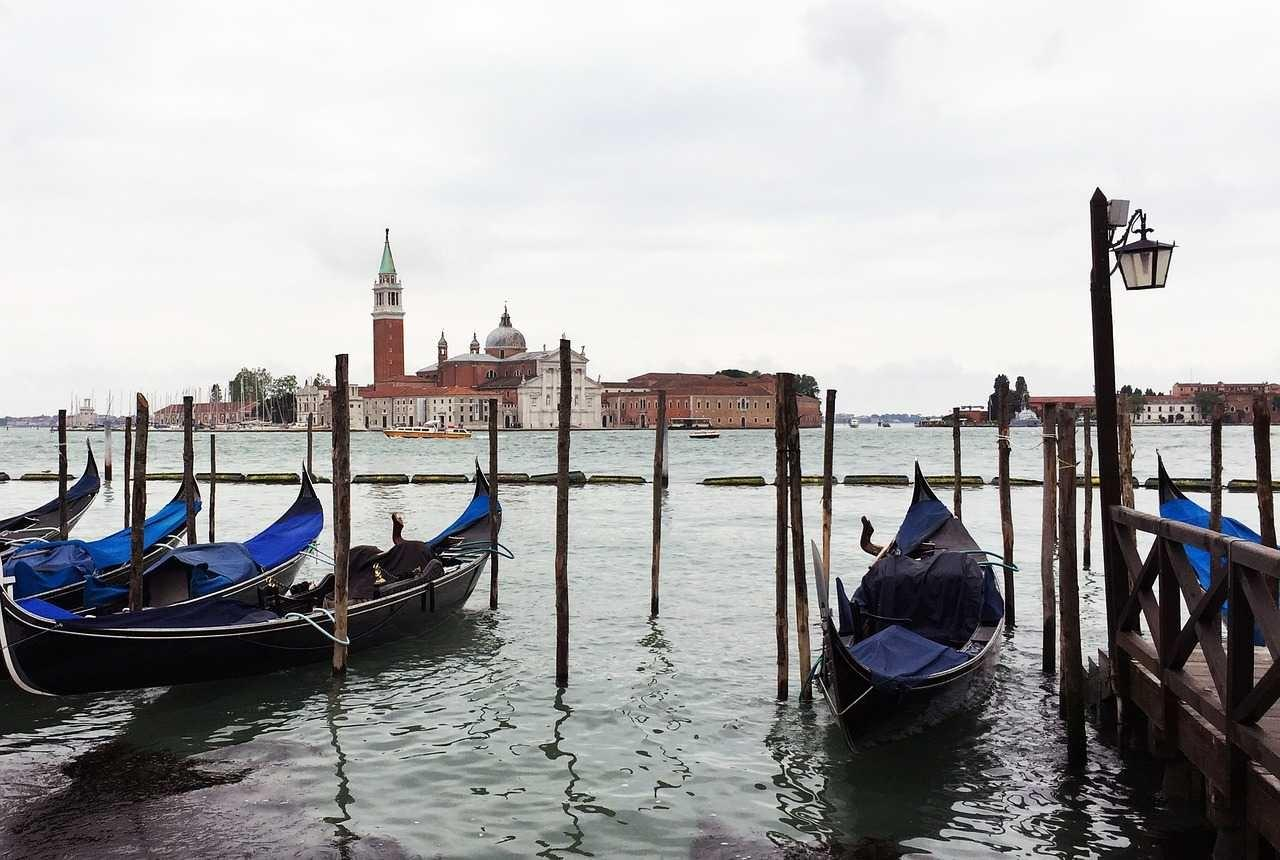kayak: (1, 463, 507, 697), (817, 461, 1007, 756), (1156, 449, 1280, 643), (0, 438, 103, 544), (382, 419, 473, 439), (700, 474, 766, 486), (687, 426, 721, 439)
